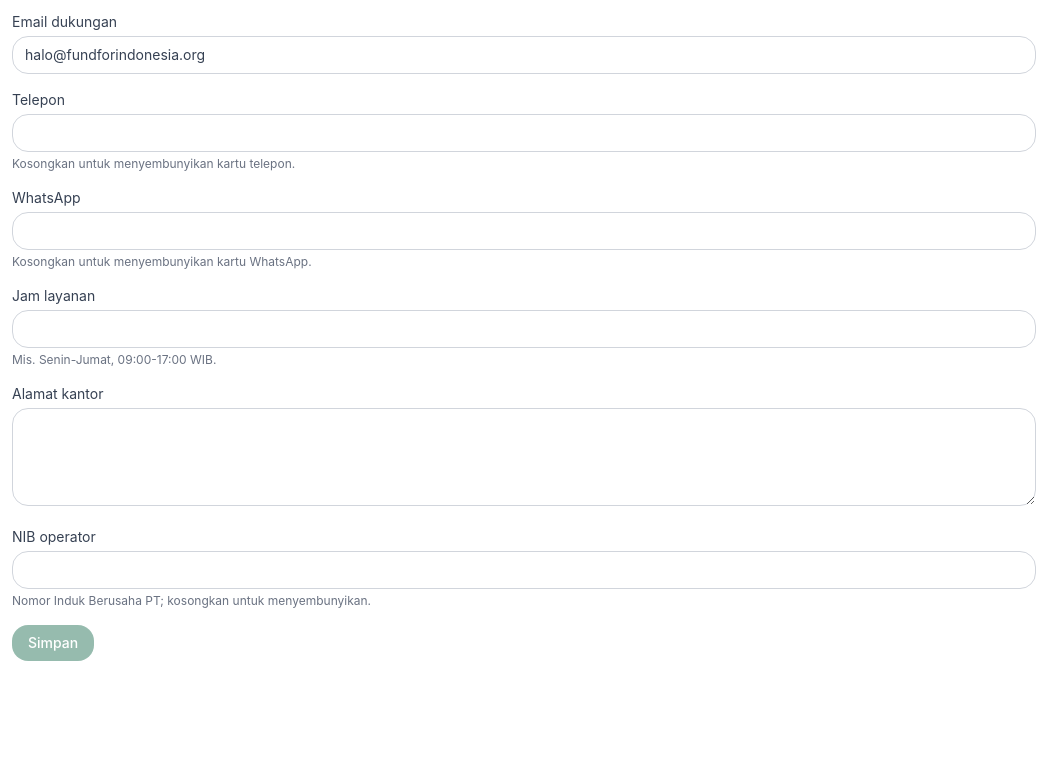
Scenario: AdminSiteSettingForm › shows the server's refusal in its own words
Replace the text in the field labelled "Email dukungan" with "x". click: (524, 55)
box: x1=12 y1=36 x2=1036 y2=74
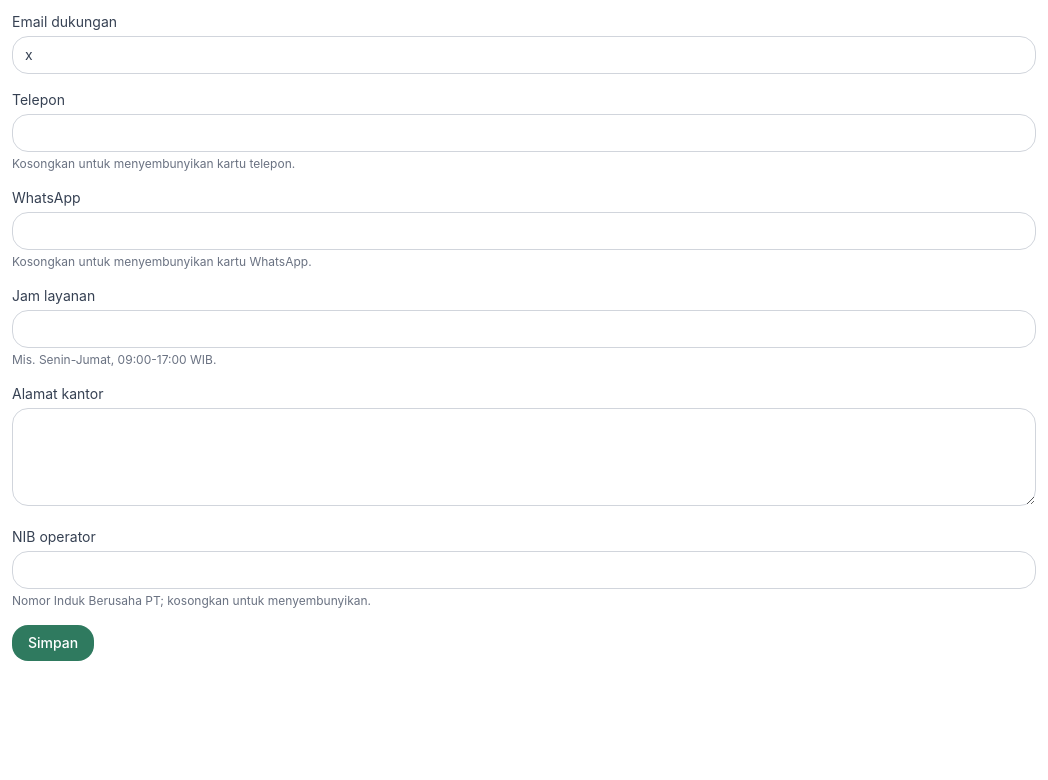
Click the button "Simpan". click: (53, 643)
box: x1=12 y1=625 x2=94 y2=661
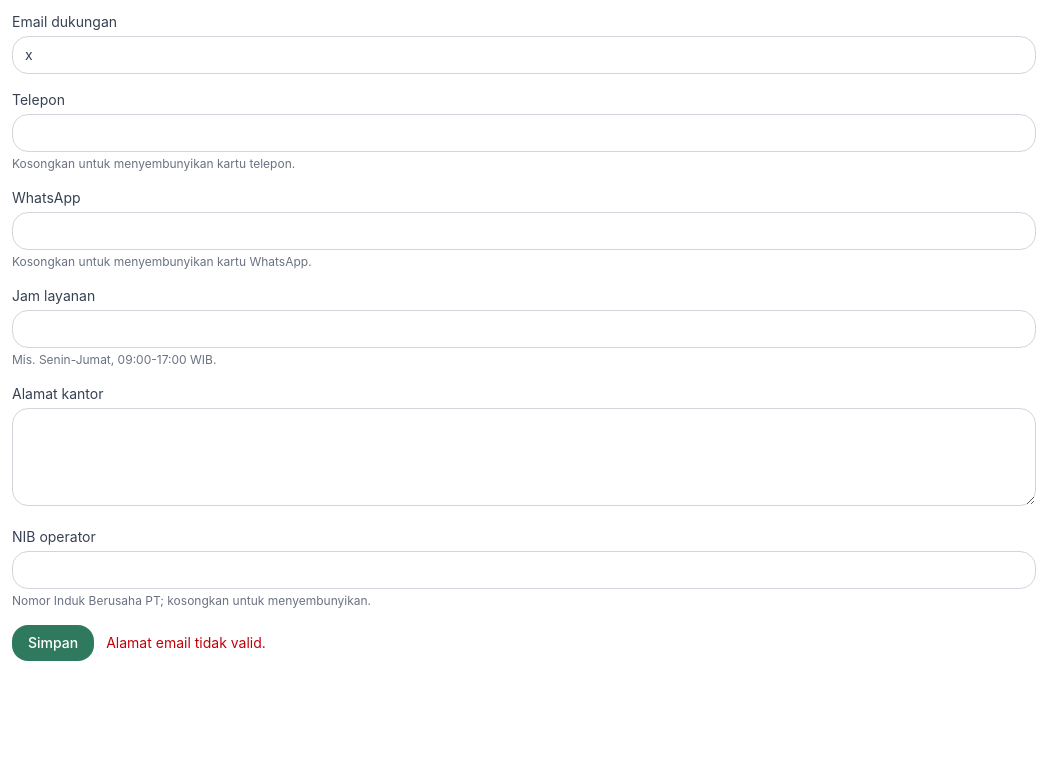
Now the message reads "Alamat email tidak valid.", box x1=106 y1=634 x2=266 y2=651
